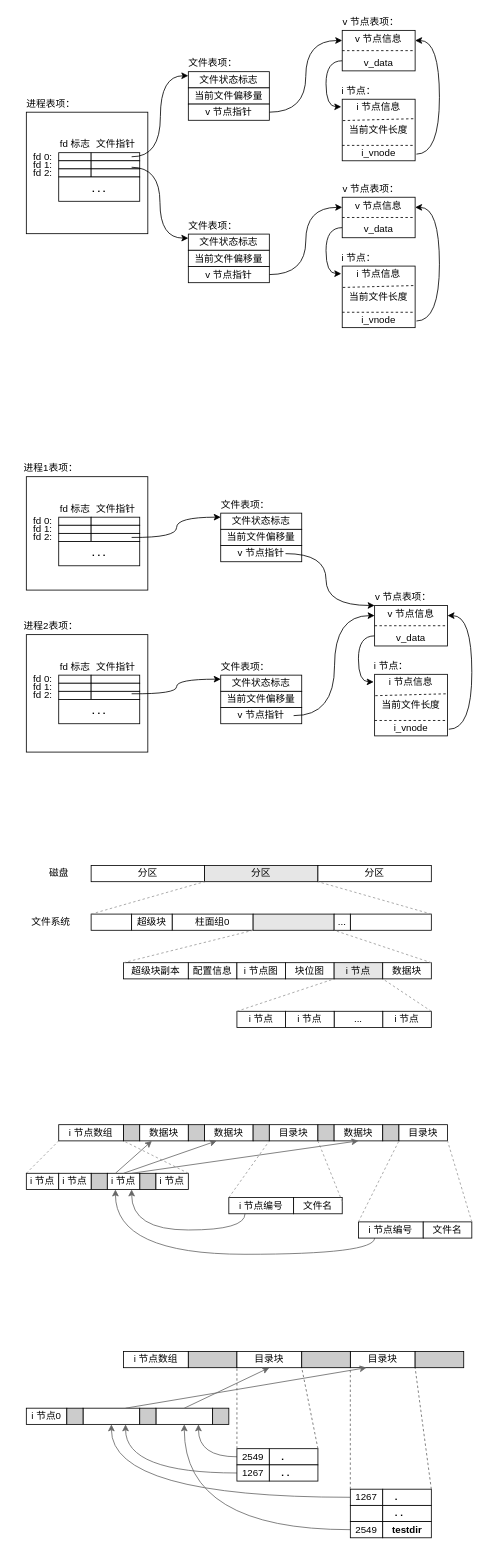
This 487x1552 diagram has some shape labels left out. The box of each missing label's shape, as (x1, y1, x2, y2) in pixels:
i 节点1267: (82, 1407, 140, 1424)
i 节点2549: (155, 1407, 213, 1424)
柱面组1: (252, 913, 334, 930)
柱面组n: (350, 913, 431, 930)
自举块: (90, 913, 132, 930)
